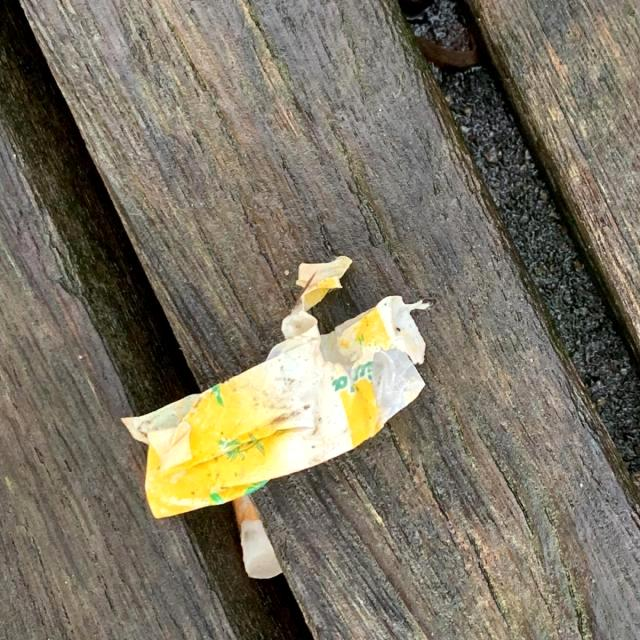Plastic: (118, 252, 432, 522)
